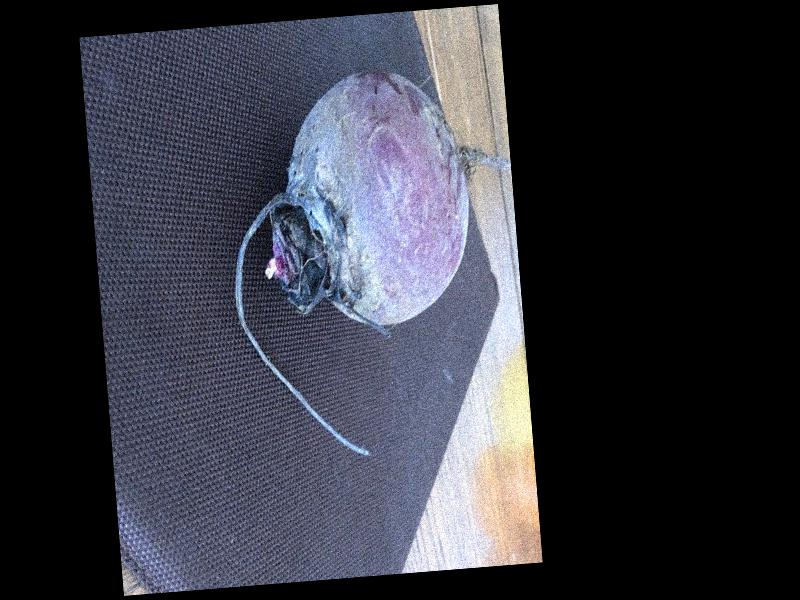Beet: (218, 59, 532, 466)
